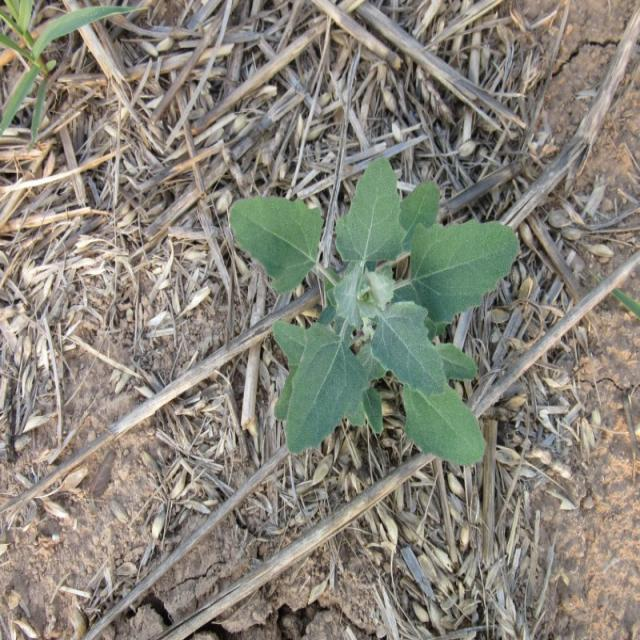ca: (228, 147, 519, 473)
